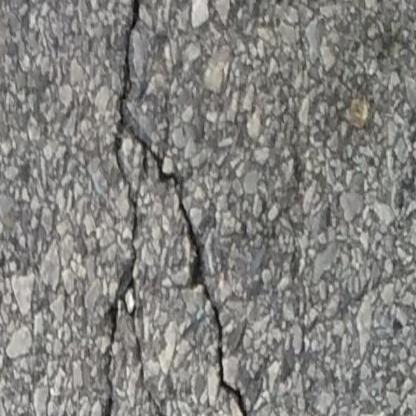Cracks: (97, 174, 278, 416), (48, 0, 183, 232)
